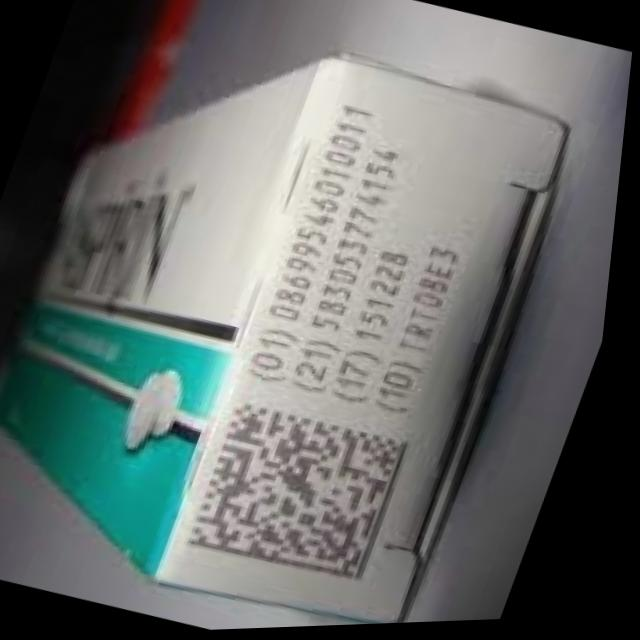datamatrix: (180, 386, 439, 607)
